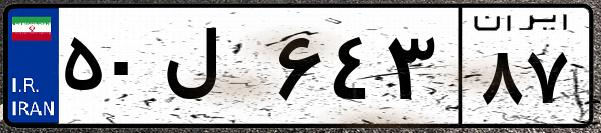0: (110, 28, 158, 98)
3: (385, 28, 445, 110)
4: (330, 28, 385, 110)
5: (57, 26, 110, 100)
6: (270, 28, 330, 110)
7: (525, 38, 570, 115)
8: (475, 38, 525, 113)
ل: (158, 20, 270, 120)
